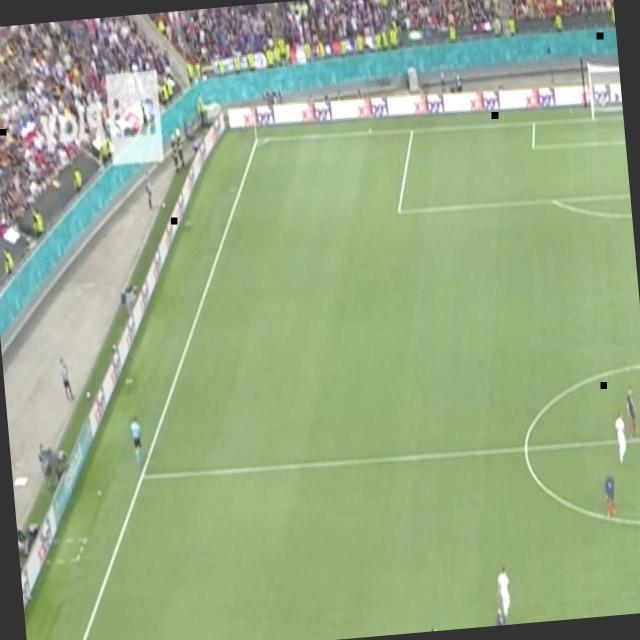ball: (84, 388, 93, 402), (161, 201, 167, 210)
player-white: (495, 563, 515, 622), (127, 413, 147, 471), (612, 408, 631, 467), (600, 464, 618, 524), (622, 384, 640, 440), (493, 602, 510, 626), (426, 623, 441, 632)
